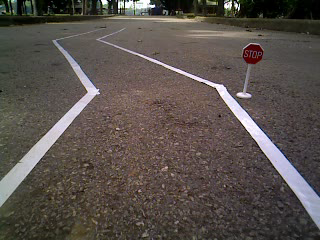Stop: (239, 40, 268, 69)
